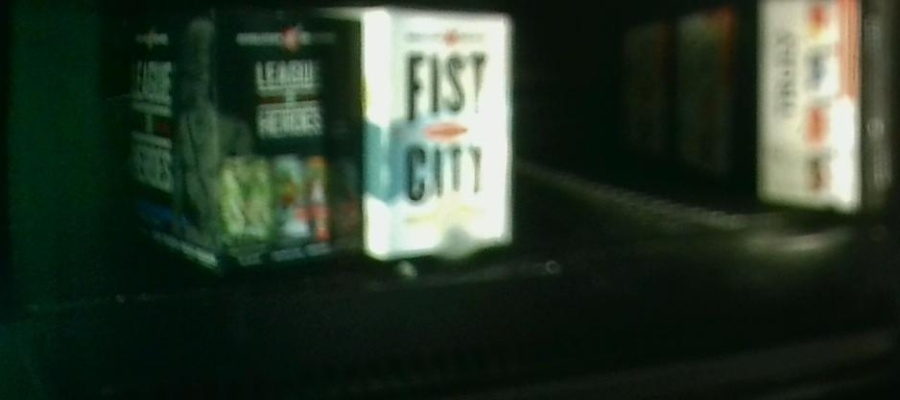bottle: (124, 10, 364, 266), (364, 6, 513, 252)
